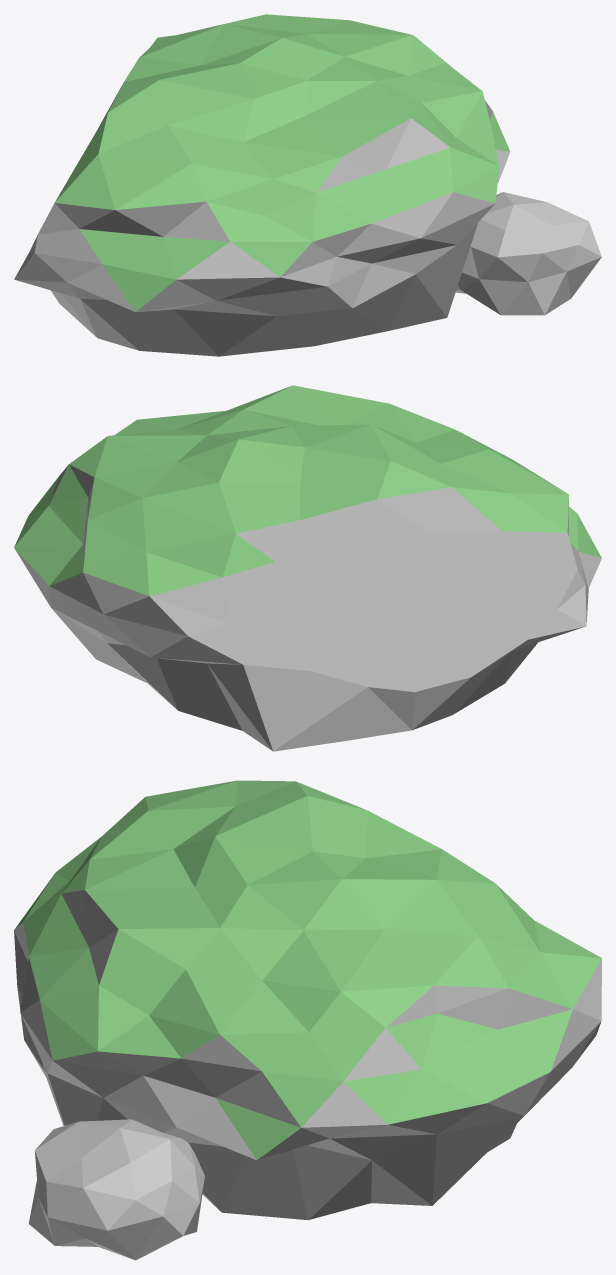
The model's file is MeadowRockB.glb.
The picture shows the model from 3 angles, top to bottom: view 1: azimuth 30°, elevation 25°; view 2: azimuth 150°, elevation 25°; view 3: azimuth 270°, elevation 25°; orthographic projection. The views are drawn at different scales.
Parts seen in each view (by area): view 1: MeadowRockB; view 2: MeadowRockB; view 3: MeadowRockB.
Boxes of the visible parts, x1=… form: MeadowRockB: x1=14, y1=14, x2=601, y2=356; MeadowRockB: x1=14, y1=385, x2=601, y2=751; MeadowRockB: x1=14, y1=780, x2=601, y2=1260.
Size of the model in its own units: 5 by 2 by 4.
